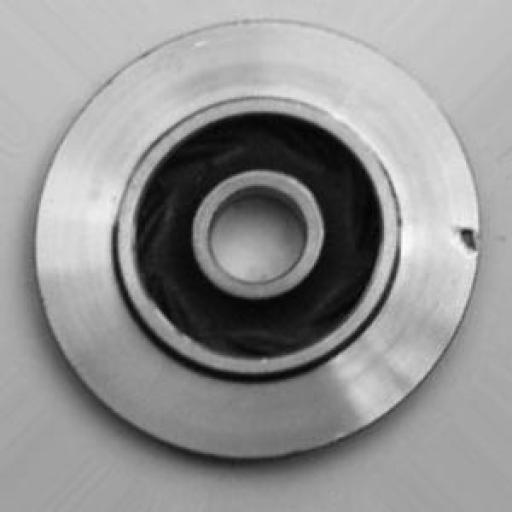defect: (446, 186, 493, 286)
